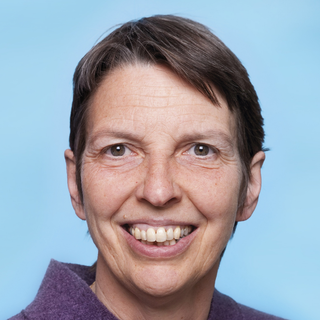eye: (169, 135, 229, 168), (87, 139, 150, 168)
